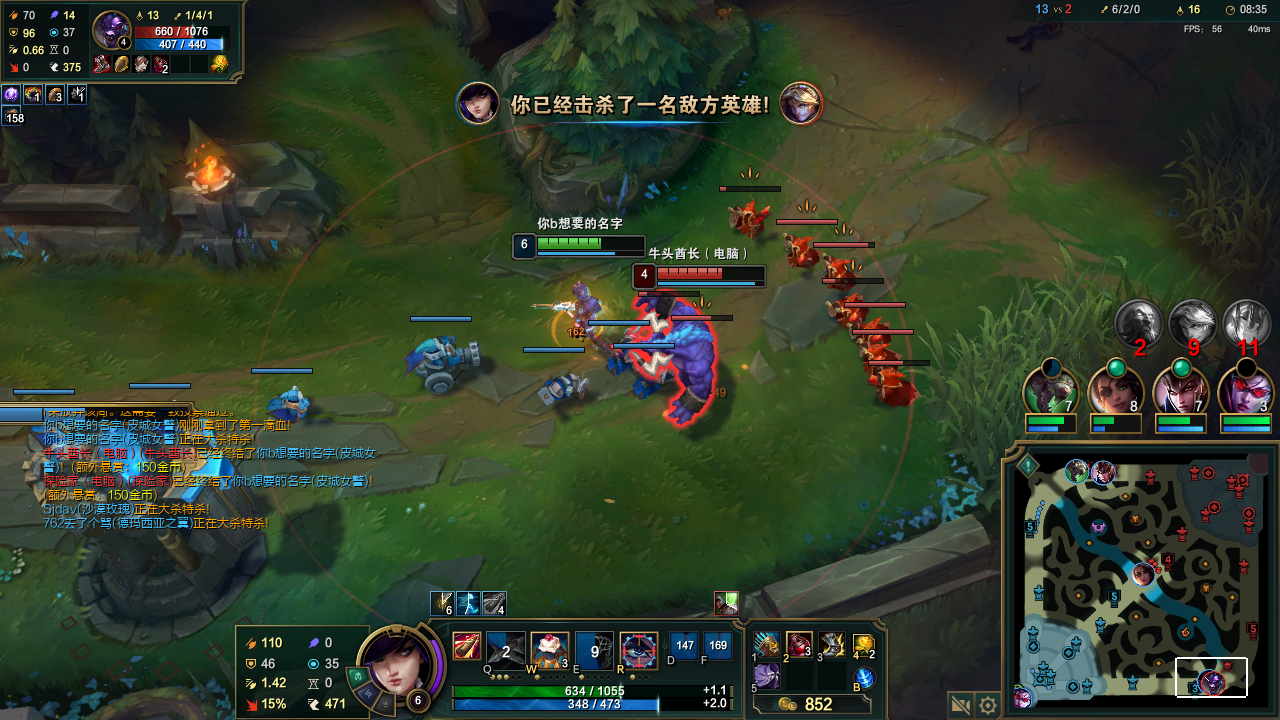DFXB: (866, 367, 919, 407), (727, 204, 771, 243), (862, 344, 906, 374), (788, 240, 818, 272), (830, 292, 861, 322), (853, 320, 892, 343), (824, 255, 853, 282)
DFYX: (648, 268, 732, 280)
WFXB: (419, 340, 484, 387), (540, 374, 596, 407), (271, 385, 317, 420), (606, 352, 629, 374), (631, 370, 649, 393)
